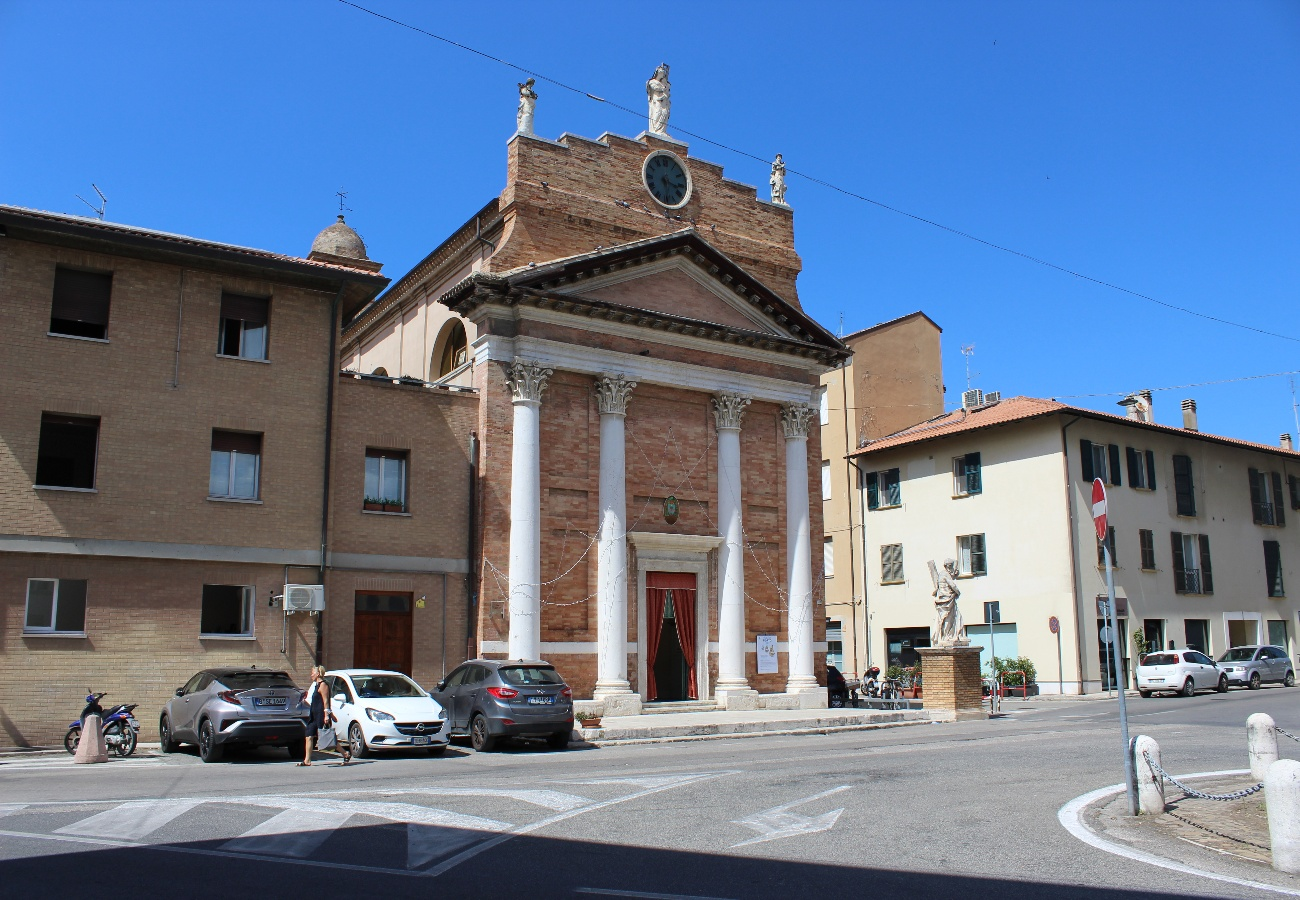Parrocchia Santa Maria: (463, 55, 855, 732)
